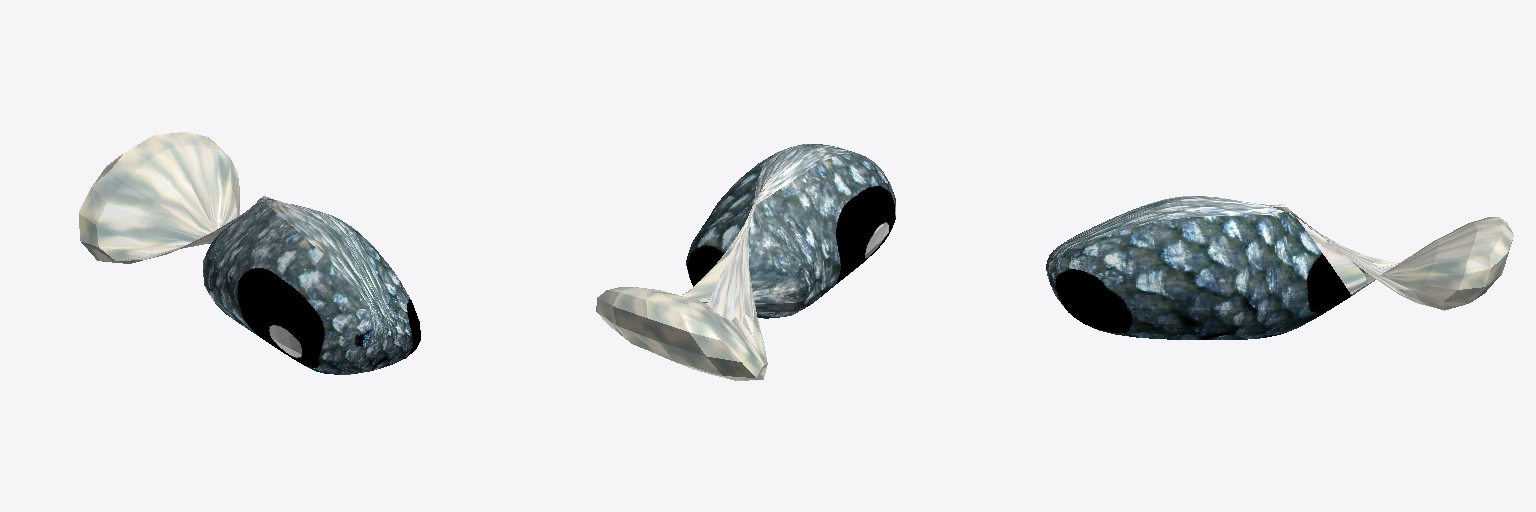
The picture shows the model from 3 angles: view 1: azimuth 30°, elevation 25°; view 2: azimuth 150°, elevation 25°; view 3: azimuth 270°, elevation 25°; orthographic projection.
Visible parts, largest first — view 1: Cube; view 2: Cube; view 3: Cube.
Boxes of the visible parts, box(x1,y1,x2,y2) form: Cube: box(79, 132, 420, 374); Cube: box(596, 144, 895, 380); Cube: box(1046, 196, 1513, 339).
Bounding box in the file's own units: 2.15 × 1.66 × 5.3.
1 materials, 1 textured.